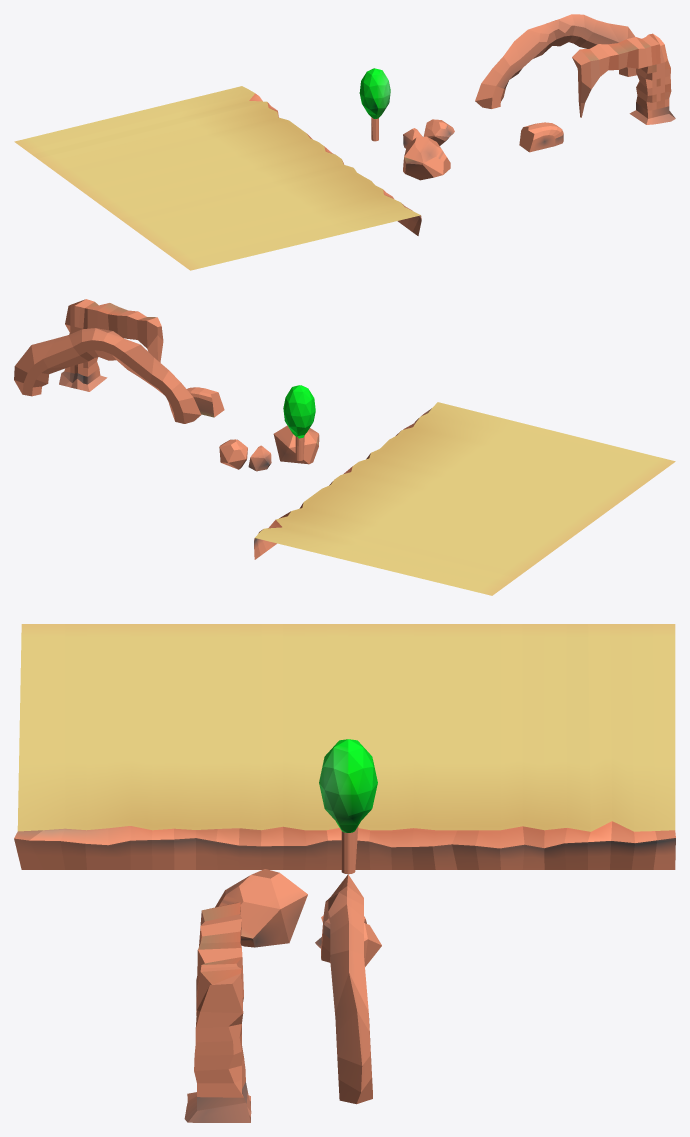
File: Sahne.fbx
3 views of the same model, one above another, from view 1: azimuth 30°, elevation 25°; view 2: azimuth 150°, elevation 25°; view 3: azimuth 270°, elevation 25° (orthographic). The views are drawn at different scales.
Visible parts, largest first — view 1: Kenar, BuyukEngel, BuyukKaya, Kaya3, Agac, KucukEngel, Kaya2; view 2: Kenar, BuyukKaya, BuyukEngel, Agac, Kaya3, KucukEngel, Kaya2; view 3: Kenar, BuyukEngel, BuyukKaya, Agac, Kaya3.
Boxes of the visible parts, x1,y1,x2,y2 form: Kenar: (14,86,421,270); BuyukEngel: (572,33,675,124); BuyukKaya: (475,14,636,108); Kaya3: (403,136,450,180); Agac: (359,68,390,141); KucukEngel: (519,122,563,152); Kaya2: (423,119,454,145); Kenar: (254,402,675,595); BuyukKaya: (14,328,201,423); BuyukEngel: (59,299,163,391); Agac: (283,385,315,460); Kaya3: (273,425,319,464); KucukEngel: (187,387,224,417); Kaya2: (219,439,247,469); Kenar: (14,624,675,869); BuyukEngel: (184,902,251,1122); BuyukKaya: (321,874,372,1104); Agac: (319,739,377,874); Kaya3: (215,869,307,947).
Size of the model in its own units: 1500 by 267 by 853.
